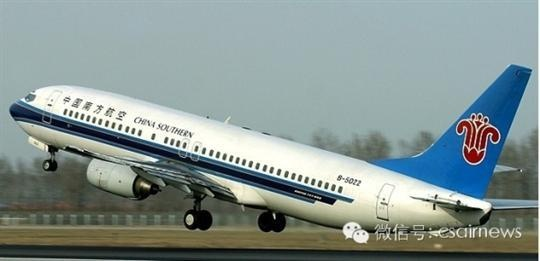airplane: (11, 65, 539, 232)
